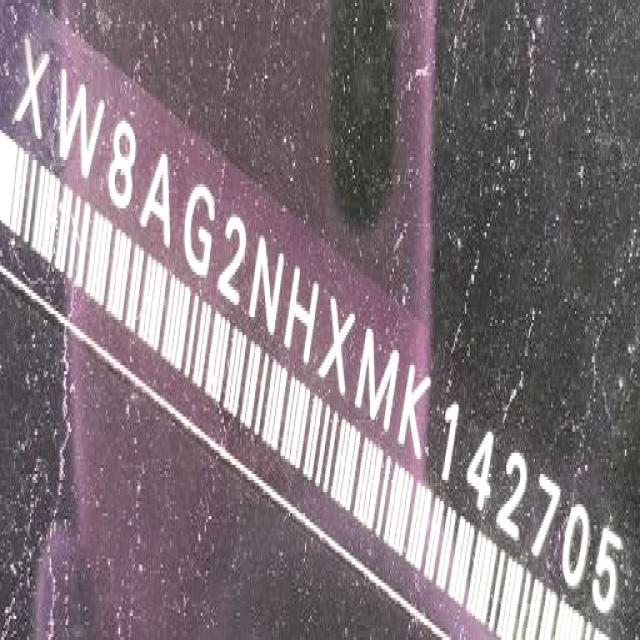0: (552, 490, 598, 601)
1: (456, 408, 502, 520), (426, 381, 468, 499)
2: (487, 443, 537, 555), (210, 200, 253, 315)
5: (581, 508, 636, 629)
7: (522, 460, 568, 576)
8: (103, 103, 142, 220)
A: (133, 136, 182, 257)
G: (178, 172, 224, 289)
H: (280, 252, 326, 374)
K: (398, 350, 428, 466)
M: (348, 319, 404, 445)
N: (243, 224, 291, 347)
W: (47, 57, 111, 188)
X: (5, 32, 58, 154), (320, 287, 354, 395)
